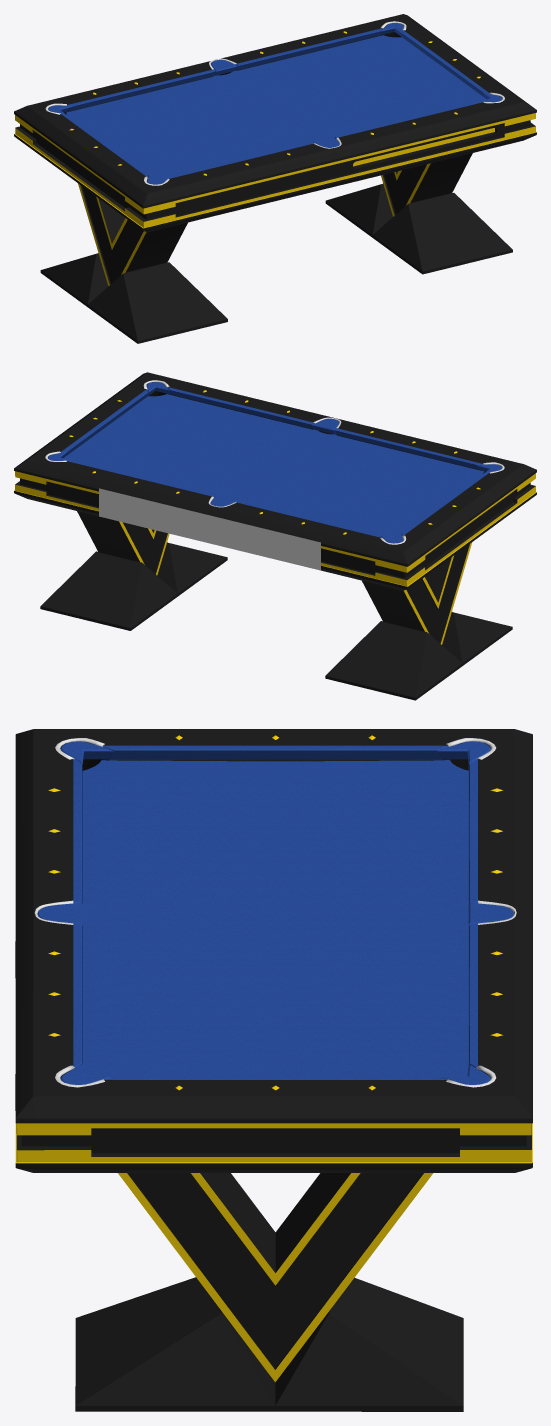
3 renders of one model, top to bottom at view 1: azimuth 30°, elevation 25°; view 2: azimuth 150°, elevation 25°; view 3: azimuth 270°, elevation 25°, orthographic. The views are drawn at different scales.
Parts seen in each view (by area): view 1: table, .4BALL_FILL; view 2: table, scorecard, .4BALL_FILL; view 3: table, .4BALL_FILL.
Boxes of the visible parts, box(x1,y1,x2,y2) form: table: box(14, 14, 536, 343); .4BALL_FILL: box(48, 23, 502, 184); table: box(14, 372, 536, 700); scorecard: box(99, 488, 320, 570); .4BALL_FILL: box(48, 382, 501, 543); table: box(15, 729, 532, 1411); .4BALL_FILL: box(37, 741, 513, 1084).
Size of what is drawn, in the model's own units: 2.33 by 1.34 by 0.9012.
